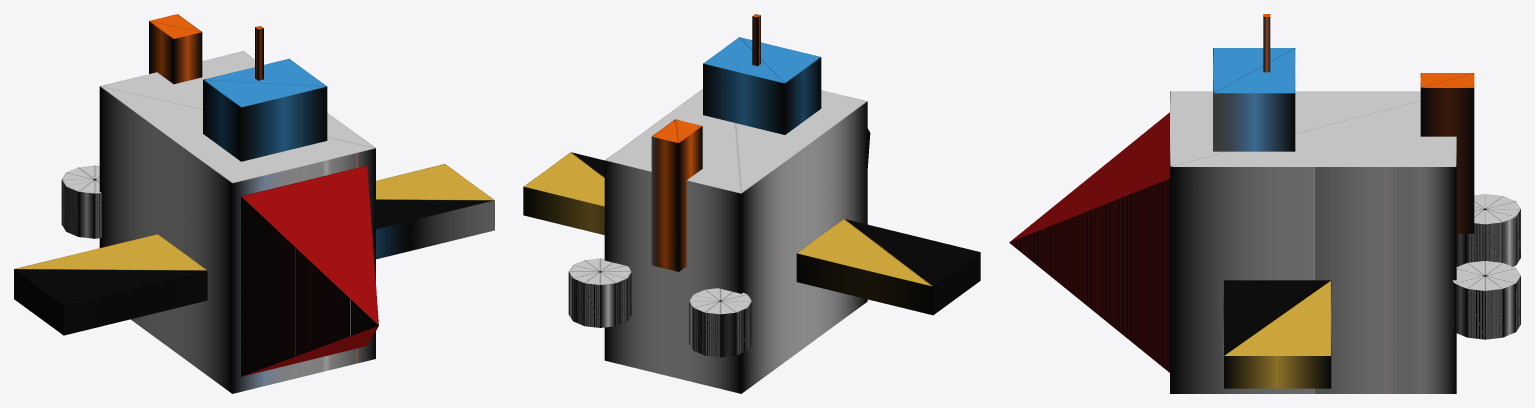
The model's file is Player1.obj.
The picture shows the model from 3 angles, left to right: view 1: azimuth 30°, elevation 25°; view 2: azimuth 150°, elevation 25°; view 3: azimuth 270°, elevation 25°; orthographic projection. The views are drawn at different scales.
Visible parts, largest first — view 1: Player_Drone; view 2: Player_Drone; view 3: Player_Drone.
Part boxes in pixels (left/top/right/bottom): Player_Drone: left=14, top=14, right=494, bottom=393; Player_Drone: left=523, top=14, right=980, bottom=393; Player_Drone: left=1009, top=14, right=1520, bottom=393.
Bounding box in the file's own units: 1.5 × 1.05 × 1.43.
1 material, 1 textured.
